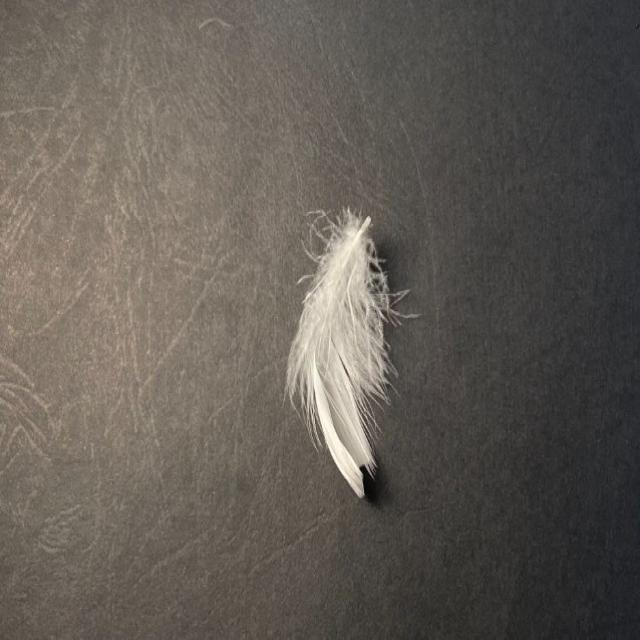feather: (277, 203, 410, 503)
